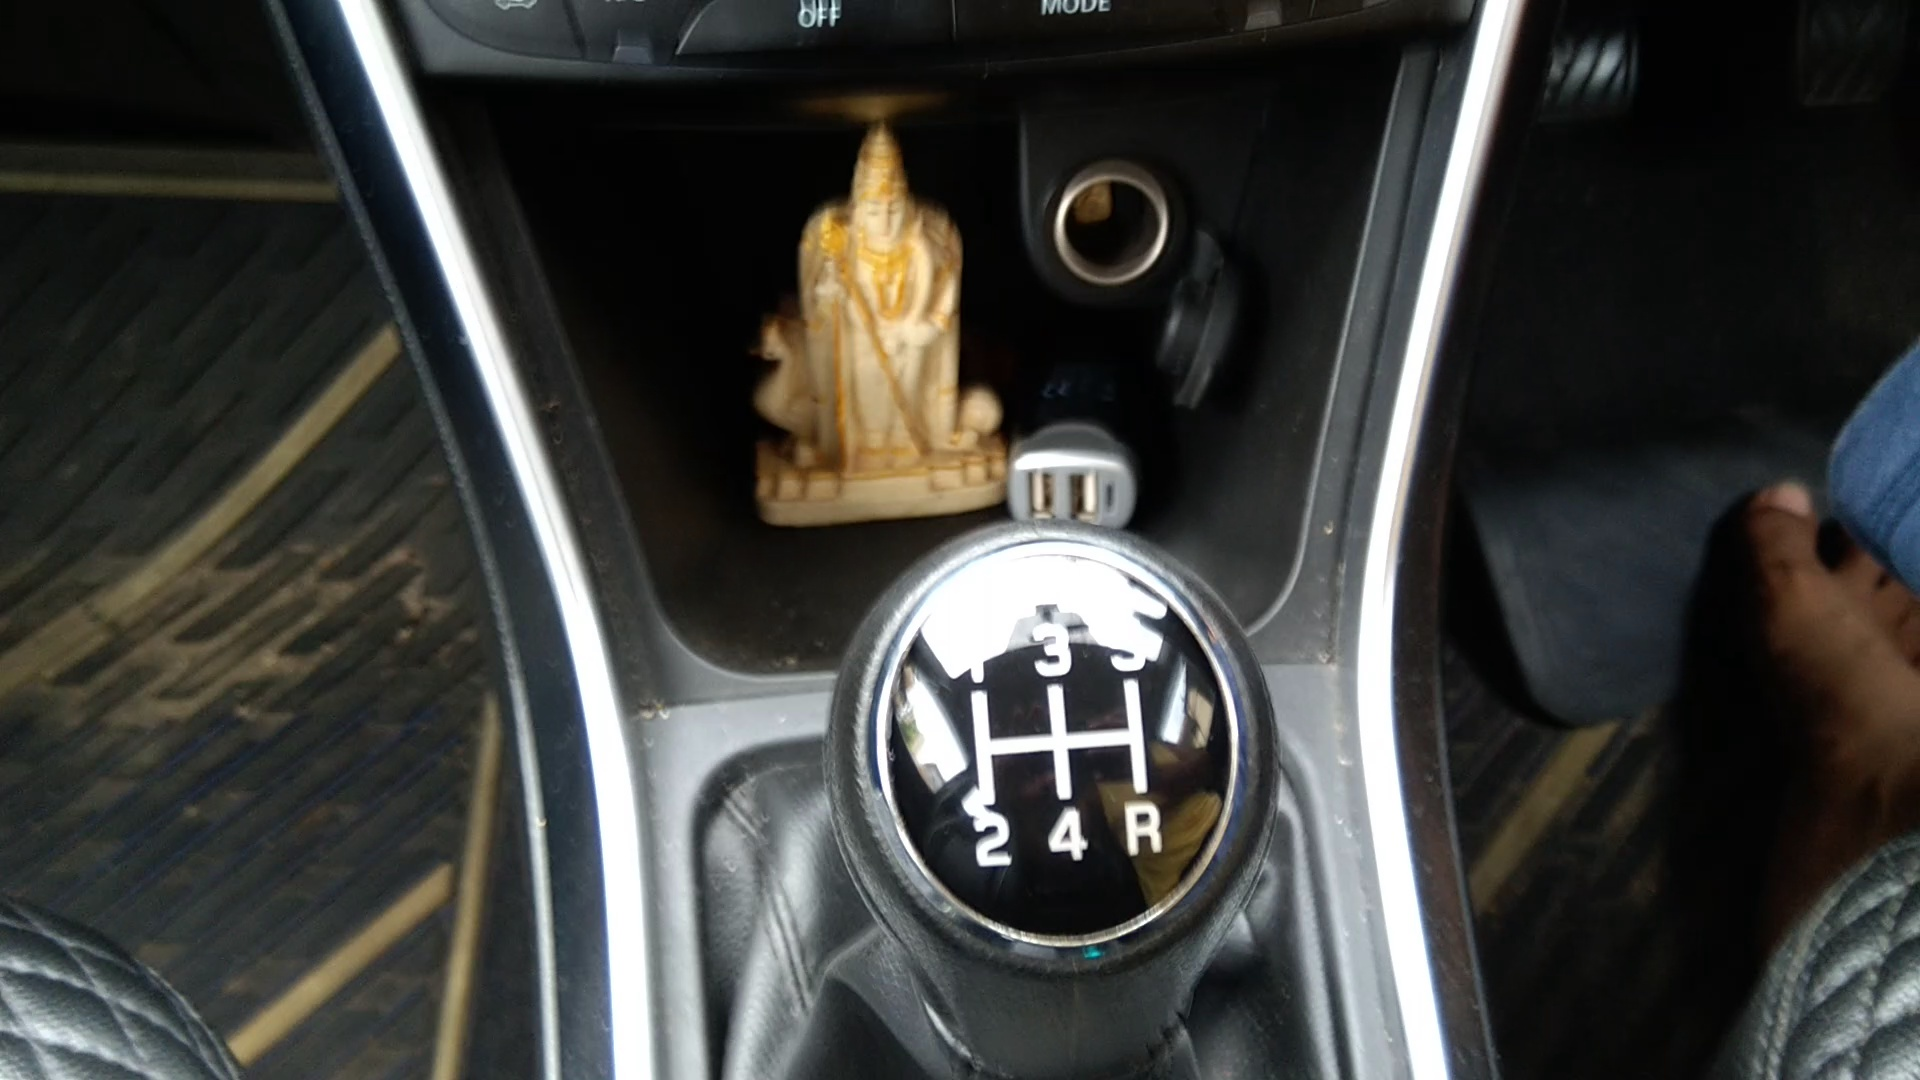manual_gear: (824, 517, 1311, 1075)
